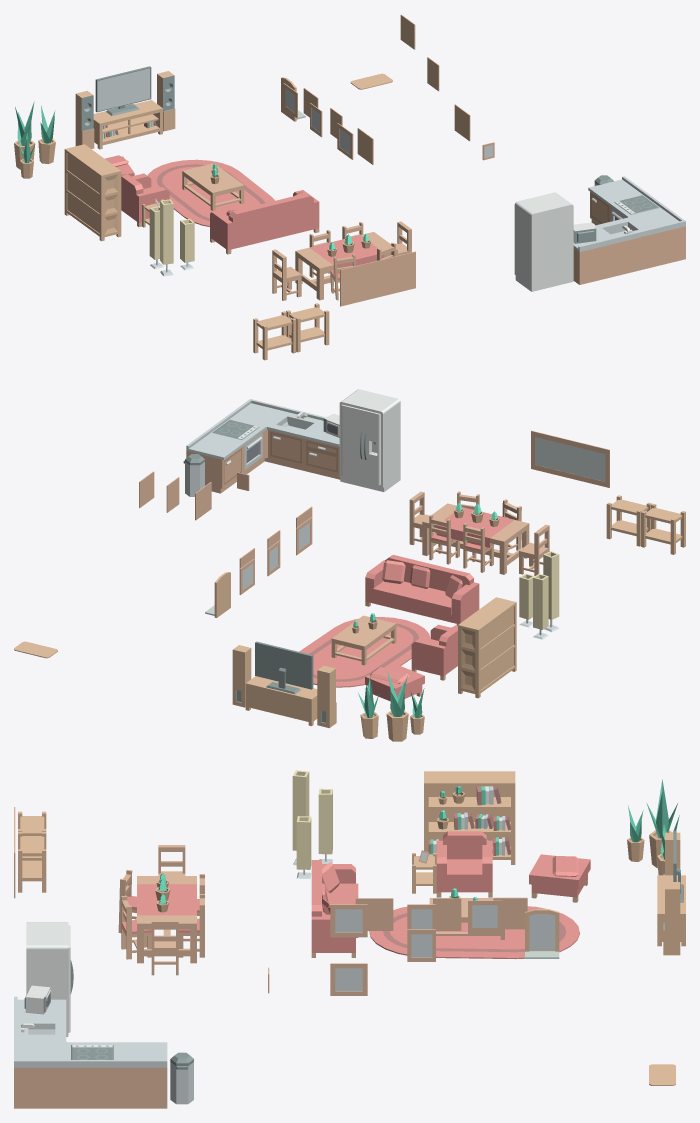
The model's file is first_floor_furniture_final.fbx.
The picture shows the model from 3 angles, top to bottom: view 1: azimuth 30°, elevation 25°; view 2: azimuth 150°, elevation 25°; view 3: azimuth 270°, elevation 25°; orthographic projection. The views are drawn at different scales.
Visible parts, largest first — view 1: kitchenFridgeLarge_68, bookcaseClosedWide_36, loungeSofa_16, rugRounded_17, pCube85, tableCloth_44, kitchenCabinetCornerInner_70, televisionModern_18, cabinetTelevision_37, kitchenSink_73, kitchenCabinetDrawer_71, tableCoffee_47 (+13 smaller); view 2: kitchenFridgeLarge_68, bookcaseClosedWide_36, loungeSofa_16, rugRounded_17, pCube85, tableCloth_44, televisionModern_18, kitchenCabinet_72, cabinetTelevision_37, kitchenSink_73, loungeChair_45, tableCoffee_47 (+19 smaller); view 3: bookcaseClosedWide_36, rugRounded_17, kitchenCabinetCornerInner_70, kitchenFridgeLarge_68, tableCloth_44, loungeChair_45, kitchenCabinet_72, kitchenStoveElectric_64, loungeSofa_16, loungeSofaOttoman_9, bathroomMirror_34, bookcaseOpenLow_49 (+29 smaller).
Part boxes in pixels (<box>): kitchenFridgeLarge_68: <box>514,192,573,291</box>; bookcaseClosedWide_36: <box>64,144,121,241</box>; loungeSofa_16: <box>210,190,319,254</box>; rugRounded_17: <box>147,159,274,226</box>; pCube85: <box>340,251,415,306</box>; tableCloth_44: <box>295,232,397,300</box>; kitchenCabinetCornerInner_70: <box>628,205,685,267</box>; televisionModern_18: <box>95,66,151,115</box>; cabinetTelevision_37: <box>93,100,162,149</box>; kitchenSink_73: <box>594,217,648,276</box>; kitchenCabinetDrawer_71: <box>573,228,614,284</box>; tableCoffee_47: <box>182,163,244,210</box>; kitchenFridgeLarge_68: <box>339,389,400,491</box>; bookcaseClosedWide_36: <box>458,597,516,698</box>; loungeSofa_16: <box>365,554,479,625</box>; rugRounded_17: <box>299,617,430,687</box>; pCube85: <box>531,430,609,487</box>; tableCloth_44: <box>422,503,529,574</box>; televisionModern_18: <box>255,641,313,694</box>; kitchenCabinet_72: <box>186,430,244,493</box>; cabinetTelevision_37: <box>245,676,317,726</box>; kitchenSink_73: <box>267,408,324,470</box>; loungeChair_45: <box>411,624,457,680</box>; tableCoffee_47: <box>331,615,396,665</box>; bookcaseClosedWide_36: <box>424,771,515,864</box>; rugRounded_17: <box>369,906,579,959</box>; kitchenCabinetCornerInner_70: <box>14,1038,67,1108</box>; kitchenFridgeLarge_68: <box>26,922,73,1036</box>; tableCloth_44: <box>137,876,196,963</box>; loungeChair_45: <box>436,831,492,897</box>; kitchenCabinet_72: <box>117,1042,167,1108</box>; kitchenStoveElectric_64: <box>67,1042,117,1108</box>; loungeSofa_16: <box>311,860,358,957</box>; loungeSofaOttoman_9: <box>529,854,590,902</box>; bathroomMirror_34: <box>525,909,559,958</box>; bookcaseOpenLow_49: <box>18,831,46,892</box>.
Bounding box in the file's own units: 45.02 × 12.83 × 50.
